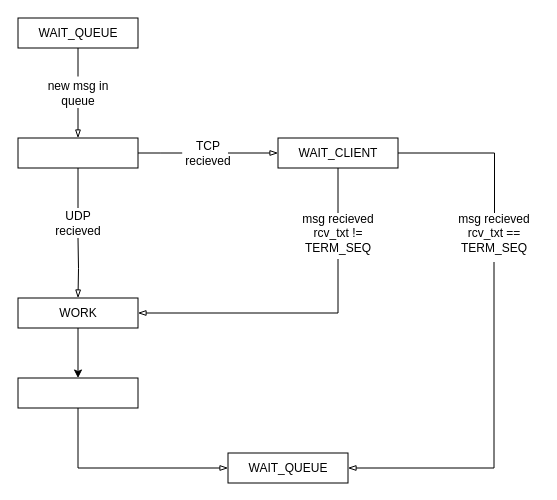
This 557x500 diagram has some shape labels left out. The centre of each missing label's shape, as x and y in pixels:
"MSG_RCV" belongs at (77,152).
"SEND" belongs at (77,392).
